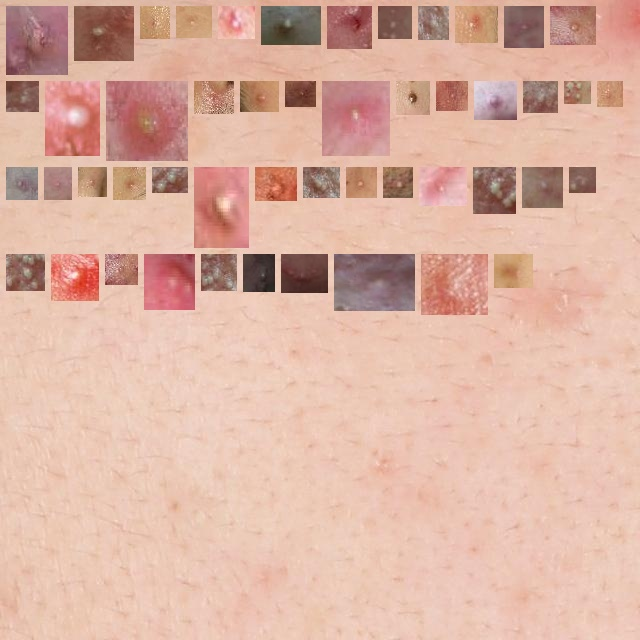pustule: (114, 89, 180, 153), (330, 89, 382, 148), (342, 262, 407, 303), (202, 175, 241, 240), (14, 14, 60, 67), (53, 89, 92, 148), (429, 262, 480, 307), (82, 14, 126, 53), (152, 262, 187, 302), (269, 14, 313, 37), (59, 262, 91, 293), (481, 175, 508, 206), (335, 14, 364, 41), (289, 262, 320, 286), (427, 175, 459, 198), (558, 14, 588, 37), (530, 175, 555, 200), (512, 14, 536, 40), (482, 89, 509, 112), (463, 14, 490, 35), (251, 262, 273, 284), (14, 262, 37, 283), (263, 175, 289, 193), (209, 262, 229, 283), (502, 262, 525, 280), (202, 89, 226, 106), (226, 14, 247, 31), (248, 89, 271, 104), (404, 89, 422, 107), (184, 14, 204, 30), (311, 175, 332, 190), (386, 14, 404, 31), (531, 89, 550, 105), (121, 175, 138, 192), (14, 175, 30, 192), (426, 14, 441, 32), (14, 89, 31, 104), (113, 262, 130, 277), (148, 14, 162, 31), (354, 175, 369, 190), (444, 89, 460, 103), (391, 175, 405, 190), (52, 175, 64, 192), (160, 175, 180, 185), (86, 175, 99, 189), (293, 89, 308, 99), (577, 175, 588, 185), (605, 89, 615, 99), (572, 89, 583, 96)
